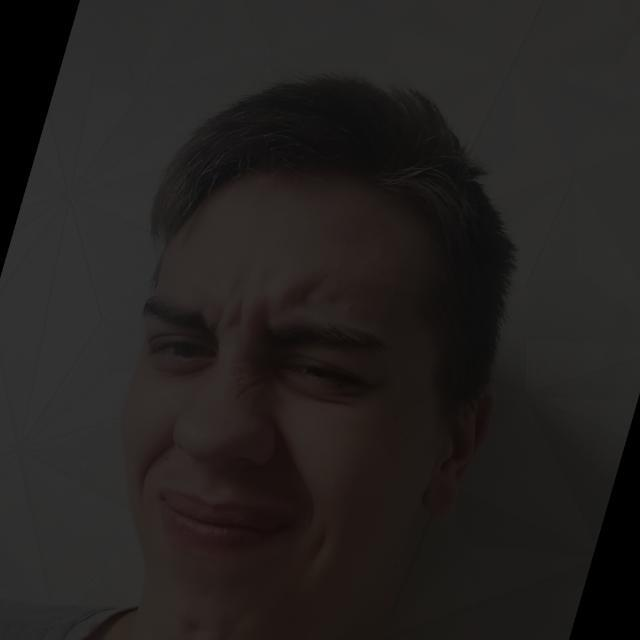Disgust: (89, 127, 491, 636)
